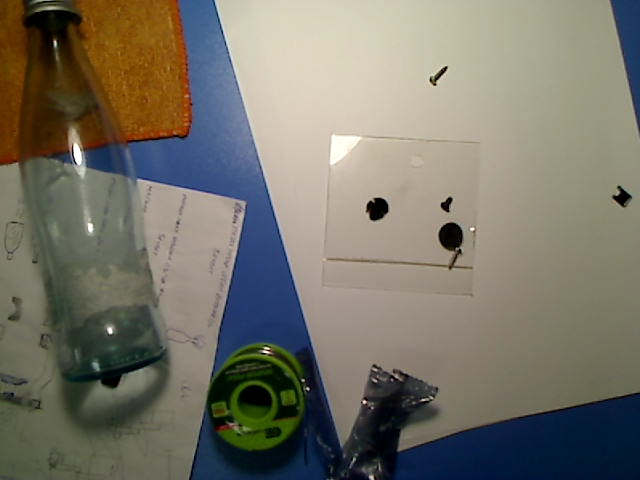bottle: (19, 1, 166, 383)
